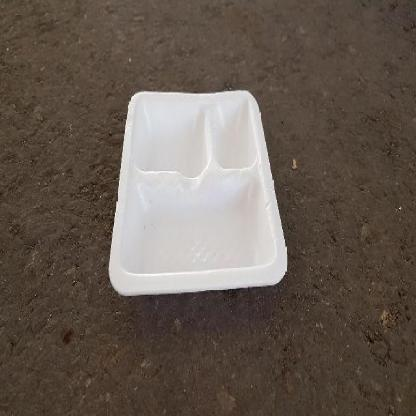Glass Cup: (108, 89, 287, 298), (109, 90, 288, 295)
